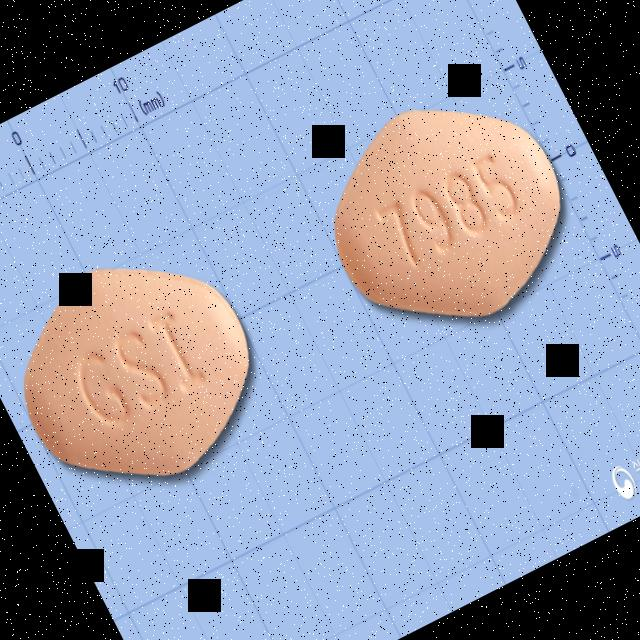Harvoni: (292, 61, 600, 365), (0, 220, 290, 524)
